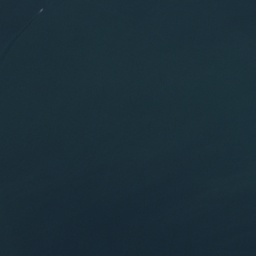Ship: (40, 9, 42, 12)
